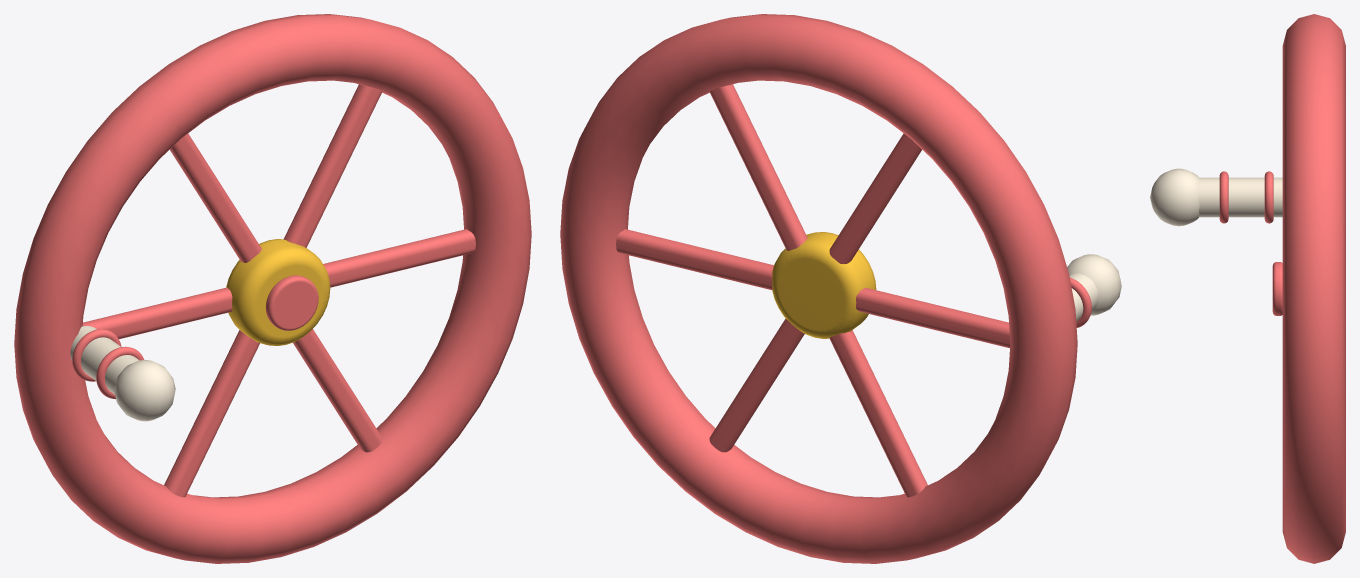
File: GenCrankWheel.fbx
3 views of the same model, side by side, from view 1: azimuth 30°, elevation 25°; view 2: azimuth 150°, elevation 25°; view 3: azimuth 270°, elevation 25° (orthographic). The views are drawn at different scales.
Visible parts, largest first — view 1: GenCrankWheel mesh; view 2: GenCrankWheel mesh; view 3: GenCrankWheel mesh.
Part boxes in pixels (x1,y1,x2,y2): GenCrankWheel mesh: (14,14,531,563); GenCrankWheel mesh: (560,14,1121,563); GenCrankWheel mesh: (1150,14,1345,563).
Bounding box in the file's own units: 0.61 × 0.61 × 0.217.
